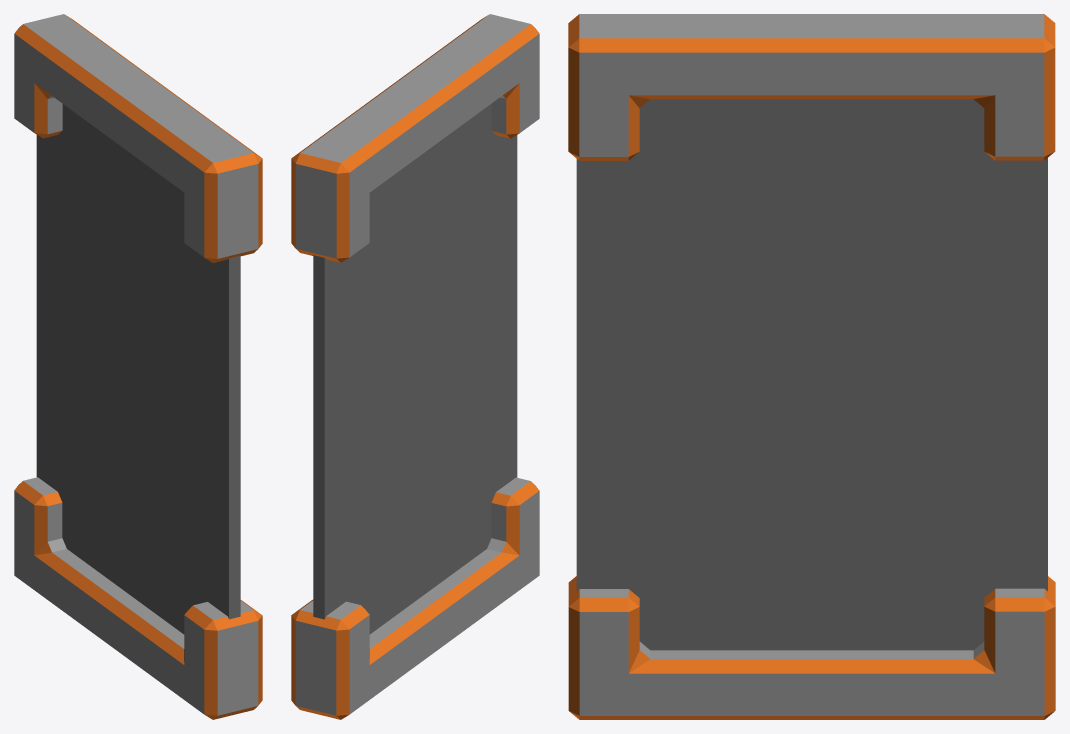
File: wall.fbx
3 views of the same model, side by side, from view 1: azimuth 30°, elevation 25°; view 2: azimuth 150°, elevation 25°; view 3: azimuth 270°, elevation 25° (orthographic). The views are drawn at different scales.
Parts seen in each view (by area): view 1: Cube.050; view 2: Cube.050; view 3: Cube.050.
Part boxes in pixels (x1=…): Cube.050: x1=14, y1=14, x2=262, y2=719; Cube.050: x1=291, y1=14, x2=539, y2=719; Cube.050: x1=568, y1=14, x2=1055, y2=719.
Bounding box in the file's own units: 101 × 919 × 595.
